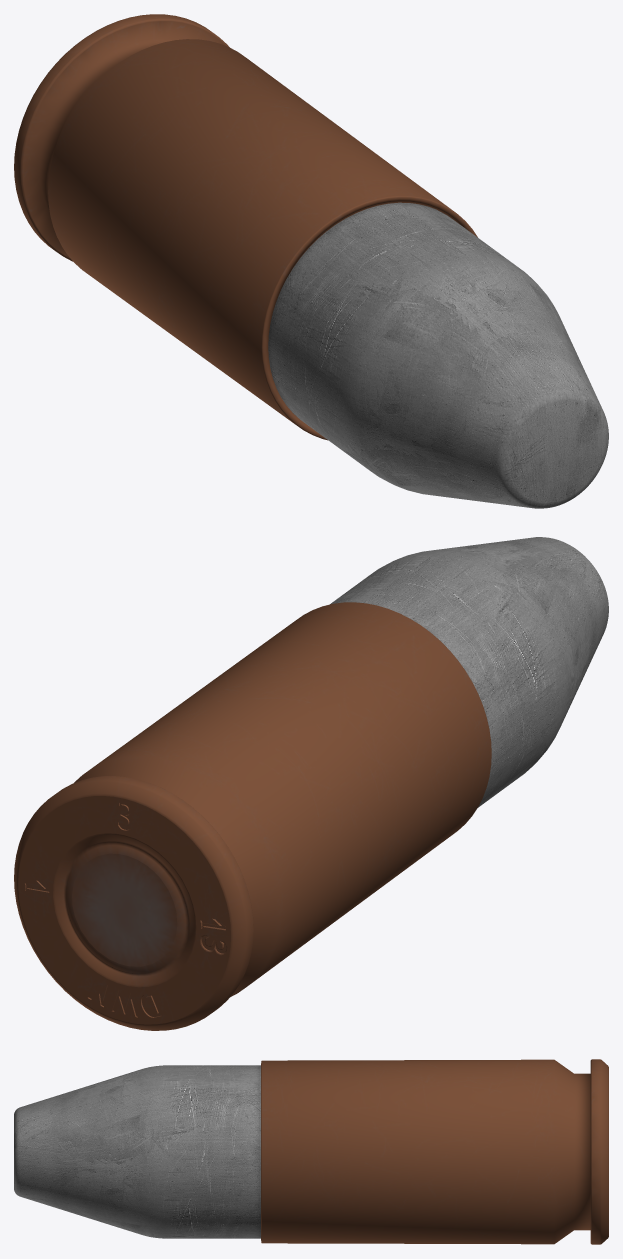
3 renders of one model, top to bottom at view 1: azimuth 30°, elevation 25°; view 2: azimuth 150°, elevation 25°; view 3: azimuth 270°, elevation 25°, orthographic. The views are drawn at different scales.
Parts seen in each view (by area): view 1: object 2, Bullet; view 2: object 2, Bullet; view 3: object 2, Bullet.
Part boxes in pixels (x1,y1,x2,y2): object 2: (14,14,477,440); Bullet: (268,202,608,508); object 2: (14,602,491,1030); Bullet: (330,537,608,807); object 2: (261,1059,608,1244); Bullet: (14,1065,260,1238).
Bounding box in the file's own units: 165 × 165 × 529.
2 materials, 2 textured.
